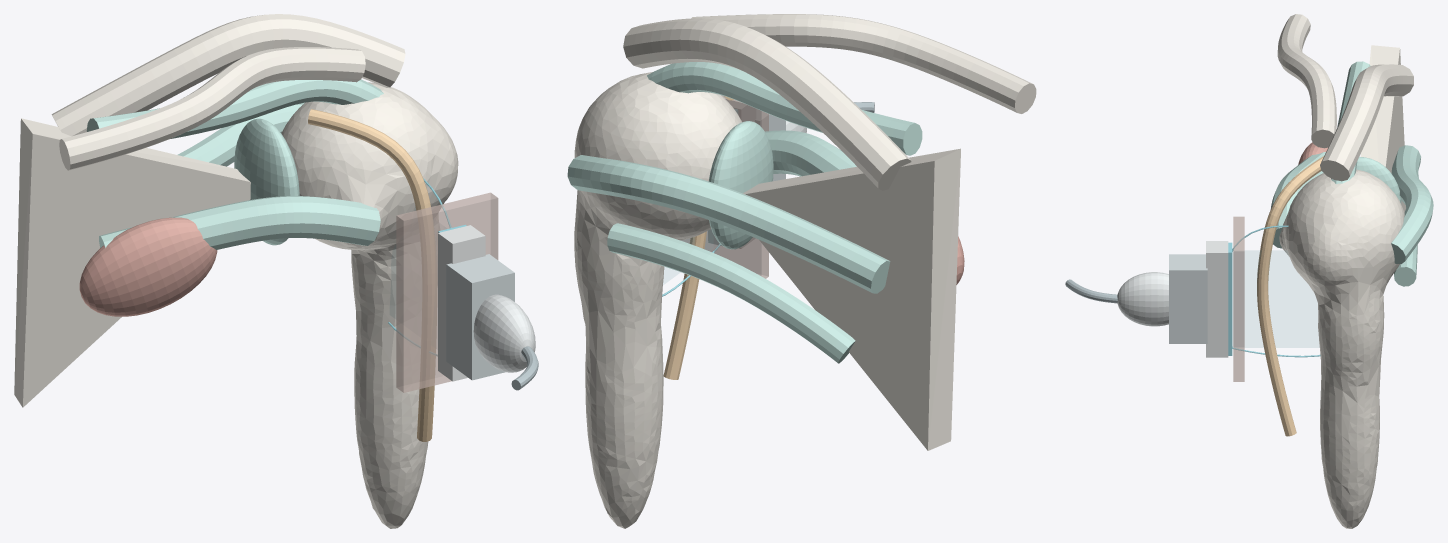
File: shoulder-long.glb
The picture shows the model from 3 angles, left to right: view 1: azimuth 30°, elevation 25°; view 2: azimuth 150°, elevation 25°; view 3: azimuth 270°, elevation 25°; orthographic projection. The views are drawn at different scales.
Visible parts, largest first — view 1: Humerus, Scapular blade - simplified, Acromion, Clavicle - partial, Local skin contact patch - surrounding skin omitted, Subscapularis - partial, Subscapularis tendon, Long head of biceps tendon, Transducer body, Supraspinatus tendon, Glenoid surface, Transducer grip (+2 smaller); view 2: Humerus, Scapular blade - simplified, Acromion, Infraspinatus tendon, Clavicle - partial, Teres minor tendon, Supraspinatus tendon, Glenoid surface, Subscapularis tendon, Local skin contact patch - surrounding skin omitted, Long head of biceps tendon, Transducer body; view 3: Humerus, Illustrative imaging plane - not a simulated sonogram, Acromion, Clavicle - partial, Long head of biceps tendon, Transducer body, Infraspinatus tendon, Scapular blade - simplified, Transducer head, Transducer grip, Local skin contact patch - surrounding skin omitted, Subscapularis tendon (+5 smaller).
Part boxes in pixels (bbox=[...]): Humerus: bbox=[281, 82, 458, 528]; Scapular blade - simplified: bbox=[14, 118, 250, 407]; Acromion: bbox=[51, 14, 405, 136]; Clavicle - partial: bbox=[59, 47, 365, 170]; Local skin contact patch - surrounding skin omitted: bbox=[396, 192, 498, 392]; Subscapularis - partial: bbox=[79, 217, 217, 316]; Subscapularis tendon: bbox=[99, 196, 380, 249]; Long head of biceps tendon: bbox=[308, 109, 436, 441]; Transducer body: bbox=[446, 254, 514, 380]; Supraspinatus tendon: bbox=[86, 79, 383, 138]; Glenoid surface: bbox=[234, 118, 299, 245]; Transducer grip: bbox=[473, 294, 535, 372]; Humerus: bbox=[574, 72, 741, 528]; Scapular blade - simplified: bbox=[743, 148, 960, 450]; Acromion: bbox=[623, 18, 911, 190]; Infraspinatus tendon: bbox=[567, 155, 890, 293]; Clavicle - partial: bbox=[691, 14, 1036, 113]; Teres minor tendon: bbox=[607, 223, 855, 363]; Supraspinatus tendon: bbox=[647, 62, 922, 155]; Glenoid surface: bbox=[708, 121, 773, 249]; Subscapularis tendon: bbox=[765, 130, 856, 176]; Local skin contact patch - surrounding skin omitted: bbox=[681, 95, 768, 278]; Long head of biceps tendon: bbox=[663, 96, 733, 379]; Transducer body: bbox=[755, 109, 785, 181]; Humerus: bbox=[1279, 169, 1404, 528]; Illustrative imaging plane - not a simulated sonogram: bbox=[1245, 251, 1318, 347]; Acromion: bbox=[1320, 64, 1413, 181]; Clavicle - partial: bbox=[1277, 14, 1336, 148]; Long head of biceps tendon: bbox=[1257, 156, 1323, 436]; Transducer body: bbox=[1169, 254, 1207, 343]; Infraspinatus tendon: bbox=[1391, 145, 1433, 263]; Scapular blade - simplified: bbox=[1360, 45, 1405, 211]; Transducer head: bbox=[1206, 241, 1228, 357]; Transducer grip: bbox=[1117, 272, 1168, 326]; Local skin contact patch - surrounding skin omitted: bbox=[1233, 216, 1244, 381]; Subscapularis tendon: bbox=[1270, 152, 1325, 248].
Size of the model in its own units: 2.89 by 3.55 by 2.94.
